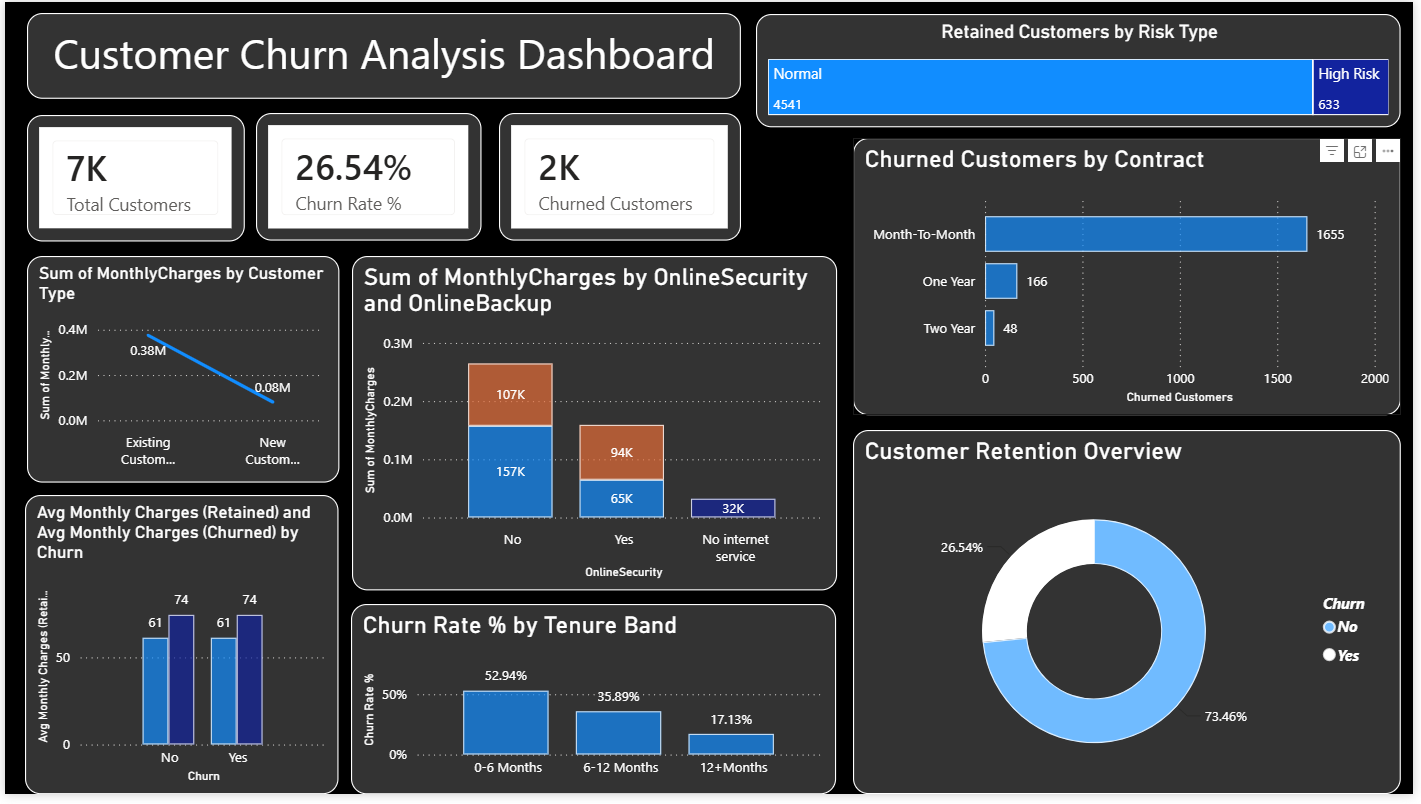

What the dashboard file says about the page in this screenshot:
{"tool":"powerbi","page":{"name":"Page 1","canvas":[1280,720],"ordinal":0},"visuals":[{"type":"treemap","fields":{"Values":["Calculated Measue.Retained Customers"],"Group":["telco_churn_unclean.Risk Type"]},"box":[682.7,10.9,586.4,102.7],"z":0},{"type":"cardVisual","fields":{"Data":["Calculated Measue.Total Customers"]},"box":[19.8,102.5,197.5,114.8],"z":1000},{"type":"textbox","box":[19.8,9.9,649.4,77.8],"z":2000},{"type":"cardVisual","fields":{"Data":["Calculated Measue.CHurn Rate %"]},"box":[228.4,101.2,204.9,116],"z":3000},{"type":"cardVisual","fields":{"Data":["Calculated Measue.Churned Customers"]},"box":[449.1,100.9,220,116.4],"z":4000},{"type":"donutChart","title":"Customer Retention Overview","fields":{"Category":["telco_churn_unclean.Churn"],"Y":["Calculated Measue.Total Customers"]},"box":[770.9,389.1,498.2,330.9],"z":5000},{"type":"barChart","fields":{"Y":["Calculated Measue.Churned Customers"],"Category":["telco_churn_unclean.Contract"]},"box":[770.9,123.6,498.2,251.8],"z":6000},{"type":"columnChart","fields":{"Category":["telco_churn_unclean.OnlineSecurity"],"Y":["Sum(telco_churn_unclean.MonthlyCharges)"],"Series":["telco_churn_unclean.OnlineBackup"]},"box":[315.5,230.9,440.7,303.7],"z":7000},{"type":"columnChart","fields":{"Y":["Calculated Measue.Churn Rate %"],"Category":["telco_churn_unclean.Tenure Band"]},"box":[314.5,547.3,440.7,172.8],"z":8000},{"type":"clusteredColumnChart","fields":{"Y":["Calculated Measue.Avg Monthly Charges (Retained)","Calculated Measue.Avg Monthly Charges (Churned)"],"Category":["telco_churn_unclean.Churn"]},"box":[18.2,448.2,285.5,271.8],"z":9000},{"type":"lineChart","fields":{"Category":["telco_churn_unclean.Customer Type"],"Y":["Sum(telco_churn_unclean.MonthlyCharges)"]},"box":[20,230.9,283.6,206.4],"z":10000}]}

Visuals, with their boxes in screenshot pixels (x1, y1, x2, y2), scaled from the page's 1280x720 canvas onto the 1421x804 screenshot:
treemap - Calculated Measue.Retained Customers x telco_churn_unclean.Risk Type: 758,12,1409,127
cardVisual - Calculated Measue.Total Customers: 22,114,241,243
textbox: 22,11,743,98
cardVisual - Calculated Measue.CHurn Rate %: 254,113,481,243
cardVisual - Calculated Measue.Churned Customers: 499,113,743,243
"Customer Retention Overview" donutChart: 856,434,1409,803
barChart - Calculated Measue.Churned Customers x telco_churn_unclean.Contract: 856,138,1409,419
columnChart - telco_churn_unclean.OnlineSecurity x Sum(telco_churn_unclean.MonthlyCharges): 350,258,840,597
columnChart - Calculated Measue.Churn Rate % x telco_churn_unclean.Tenure Band: 349,611,838,803
clusteredColumnChart - Calculated Measue.Avg Monthly Charges (Retained) x Calculated Measue.Avg Monthly Charges (Churned): 20,500,337,803
lineChart - telco_churn_unclean.Customer Type x Sum(telco_churn_unclean.MonthlyCharges): 22,258,337,488
